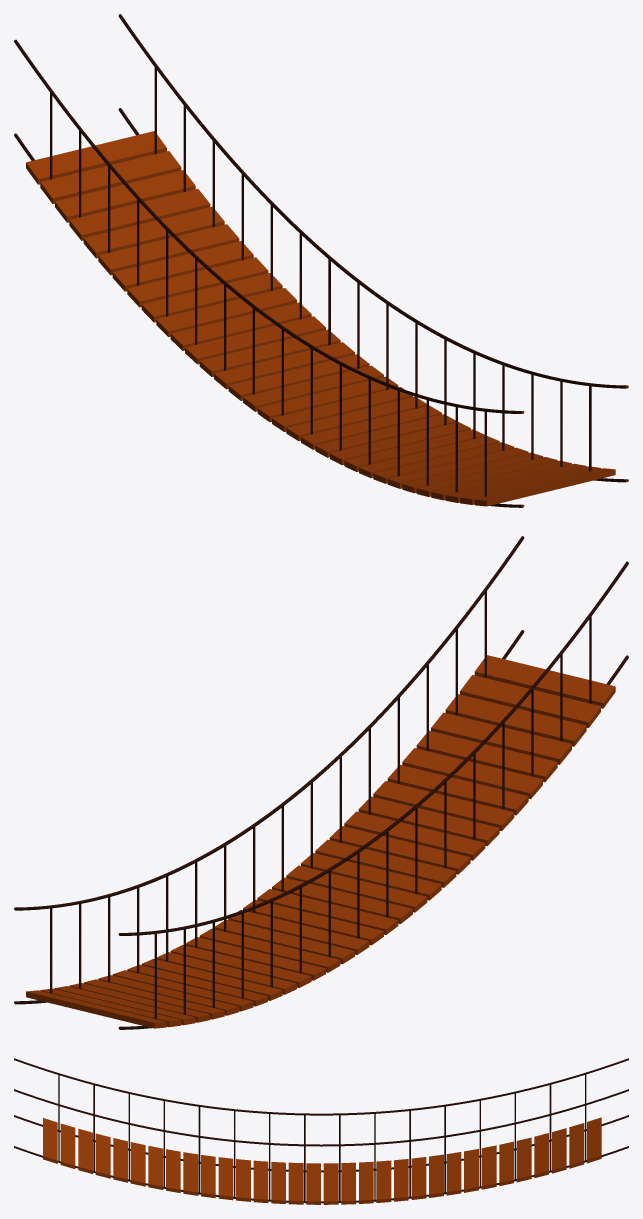
Rendered from PuenteColganteMS 1.fbx.
3 renders of one model, top to bottom at view 1: azimuth 30°, elevation 25°; view 2: azimuth 150°, elevation 25°; view 3: azimuth 270°, elevation 25°, orthographic. The views are drawn at different scales.
Visible parts, largest first — view 1: Box066; view 2: Box066; view 3: Box066.
Part boxes in pixels (<box>): Box066: <box>14,14,628,507</box>; Box066: <box>14,536,628,1029</box>; Box066: <box>14,1058,628,1204</box>.
Bounding box in the file's own units: 23.44 × 32.79 × 160.
